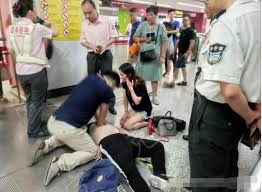fall: (81, 115, 180, 192)
